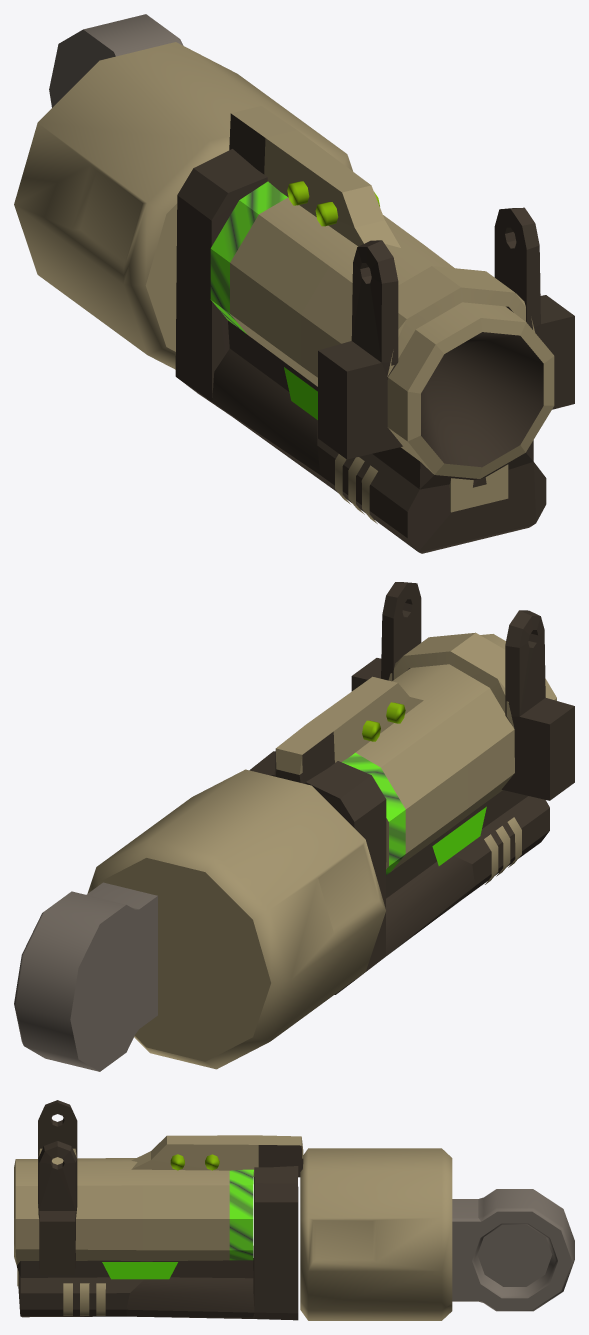
Rendered from Weapon9.fbx.
3 renders of one model, top to bottom at view 1: azimuth 30°, elevation 25°; view 2: azimuth 150°, elevation 25°; view 3: azimuth 270°, elevation 25°, orthographic. The views are drawn at different scales.
Visible parts, largest first — view 1: weapon9; view 2: weapon9; view 3: weapon9.
Boxes of the visible parts, left/top/right/bottom form: weapon9: left=14, top=14, right=574, bottom=553; weapon9: left=14, top=582, right=574, bottom=1071; weapon9: left=14, top=1100, right=574, bottom=1320.
Bounding box in the file's own units: 0.2572 × 0.3033 × 0.8297.
